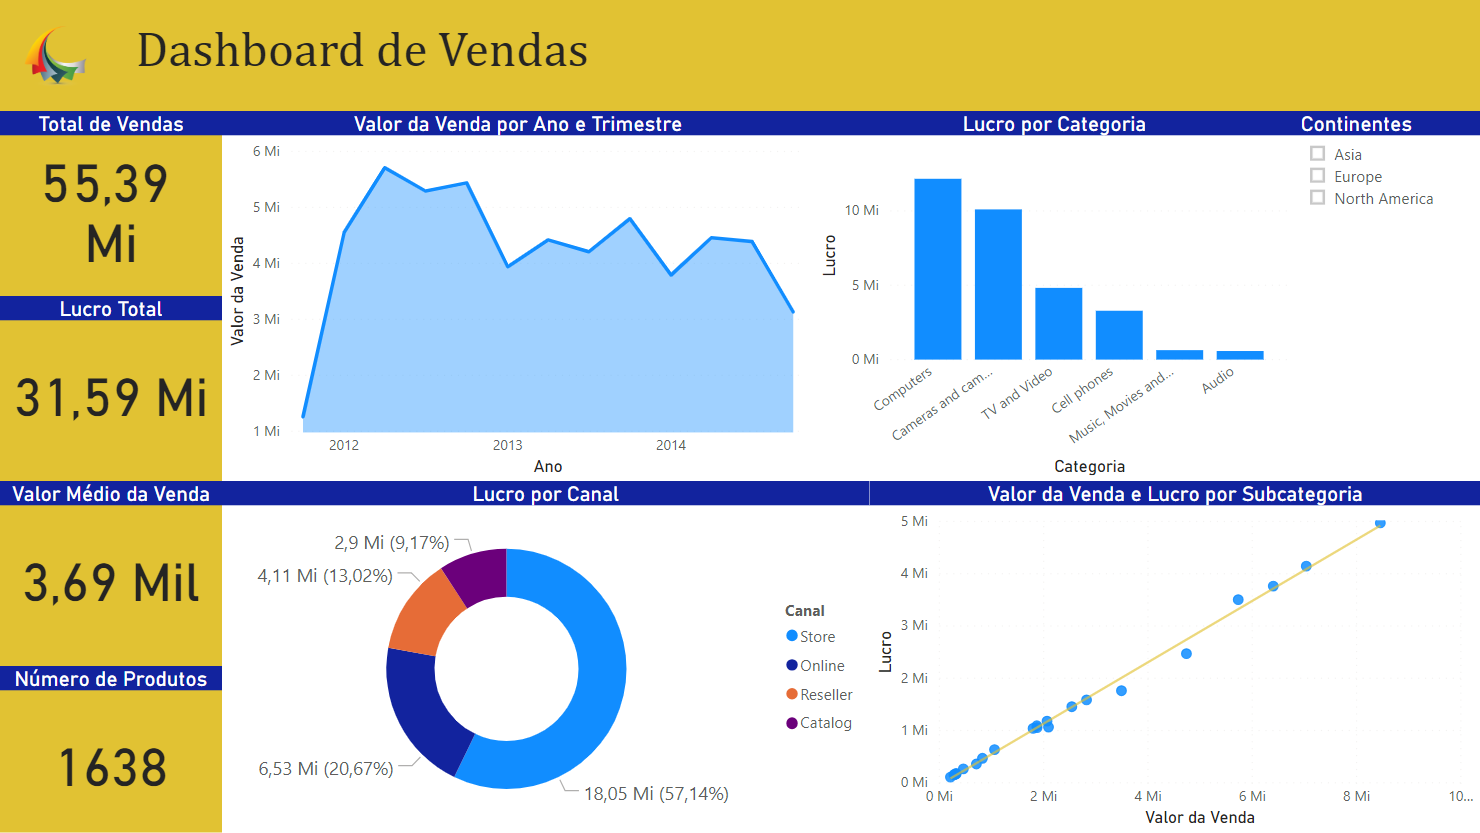

This screenshot's page, from the dashboard's own definition file:
{"tool":"powerbi","page":{"name":"Página 1","canvas":[1280,720],"ordinal":0},"visuals":[{"type":"basicShape","box":[0,0,1280,96],"z":0},{"type":"scatterChart","fields":{"Category":["Data1.Subcategoria"],"X":["Sum(Data1.Valor da Venda)"],"Y":["Sum(Data1.Lucro)"]},"box":[752,416,528,304],"z":1000},{"type":"slicer","title":"Continentes","fields":{"Values":["Data1.Continente"]},"box":[1120,96,160,320],"z":2000},{"type":"areaChart","fields":{"Category":["Data1.Data Venda.Variation.Hierarquia de datas.Ano","Data1.Data Venda.Variation.Hierarquia de datas.Trimestre","Data1.Data Venda.Variation.Hierarquia de datas.Mês","Data1.Data Venda.Variation.Hierarquia de datas.Dia"],"Y":["Sum(Data1.Valor da Venda)"]},"box":[192,96,512,320],"z":3000},{"type":"basicShape","box":[0,96,192,624],"z":4000},{"type":"image","box":[0,16,96,64],"z":5000},{"type":"card","title":"Total de Vendas","fields":{"Values":["Sum(Data1.Valor da Venda)"]},"box":[0,96,192,144],"z":6000},{"type":"textbox","box":[112,16,464,64],"z":7000},{"type":"card","title":"Lucro Total","fields":{"Values":["Sum(Data1.Lucro)"]},"box":[0,256,192,144],"z":8000},{"type":"card","title":"Valor Médio da Venda","fields":{"Values":["Avg(Data1.Valor da Venda)"]},"box":[0,416,192,144],"z":9000},{"type":"card","title":"Número de Produtos","fields":{"Values":["Count(Data1.Produto)"]},"box":[0,576,192,144],"z":10000},{"type":"clusteredColumnChart","fields":{"Category":["Data1.Categoria"],"Y":["Sum(Data1.Lucro)"]},"box":[704,96,416,320],"z":11000},{"type":"donutChart","fields":{"Category":["Data1.Canal"],"Y":["Sum(Data1.Lucro)"]},"box":[192,416,560,304],"z":12000}]}

Visuals, with their boxes in screenshot pixels (x1, y1, x2, y2), scaled from the page's 1280x720 canvas onto the 1480x833 screenshot:
basicShape: 0, 0, 1479, 111
scatterChart - Data1.Subcategoria x Sum(Data1.Valor da Venda): 870, 481, 1479, 832
"Continentes" slicer: 1295, 111, 1479, 481
areaChart - Data1.Data Venda.Variation.Hierarquia de datas.Ano x Data1.Data Venda.Variation.Hierarquia de datas.Trimestre: 222, 111, 814, 481
basicShape: 0, 111, 222, 832
image: 0, 19, 111, 93
"Total de Vendas" card: 0, 111, 222, 278
textbox: 130, 19, 666, 93
"Lucro Total" card: 0, 296, 222, 463
"Valor Médio da Venda" card: 0, 481, 222, 648
"Número de Produtos" card: 0, 666, 222, 832
clusteredColumnChart - Data1.Categoria x Sum(Data1.Lucro): 814, 111, 1295, 481
donutChart - Data1.Canal x Sum(Data1.Lucro): 222, 481, 870, 832
